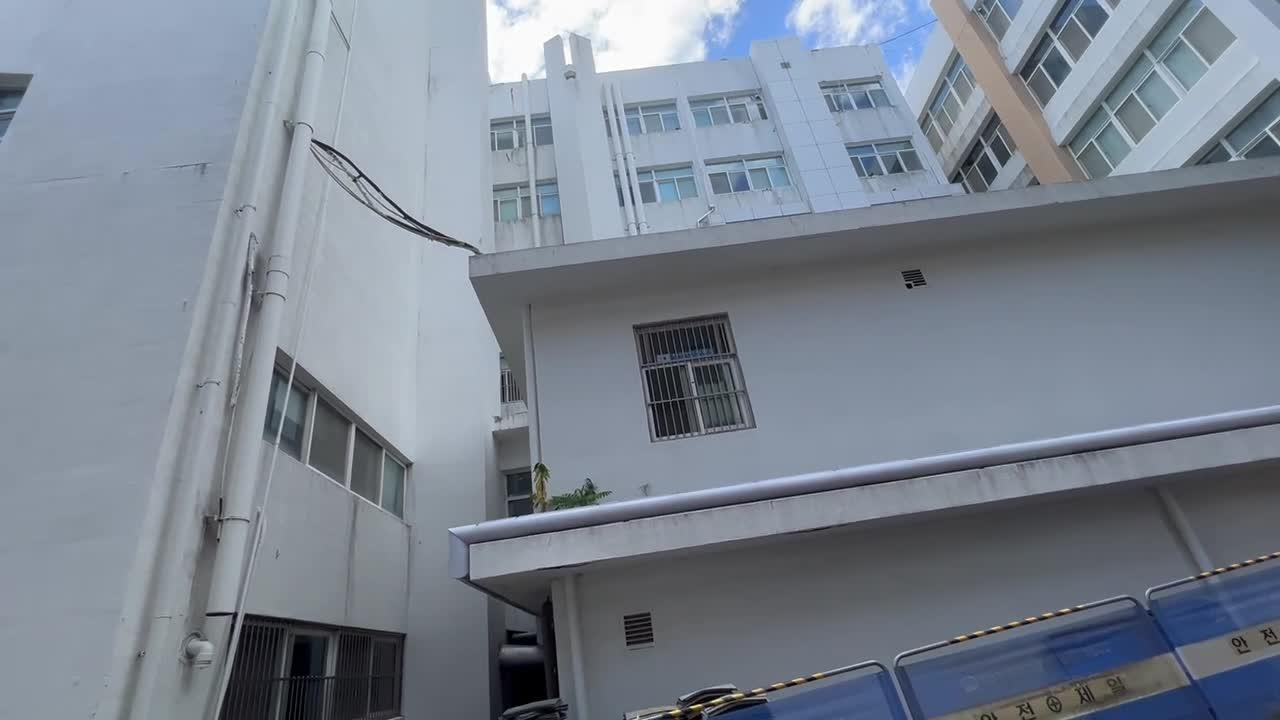building: (0, 0, 1280, 532)
